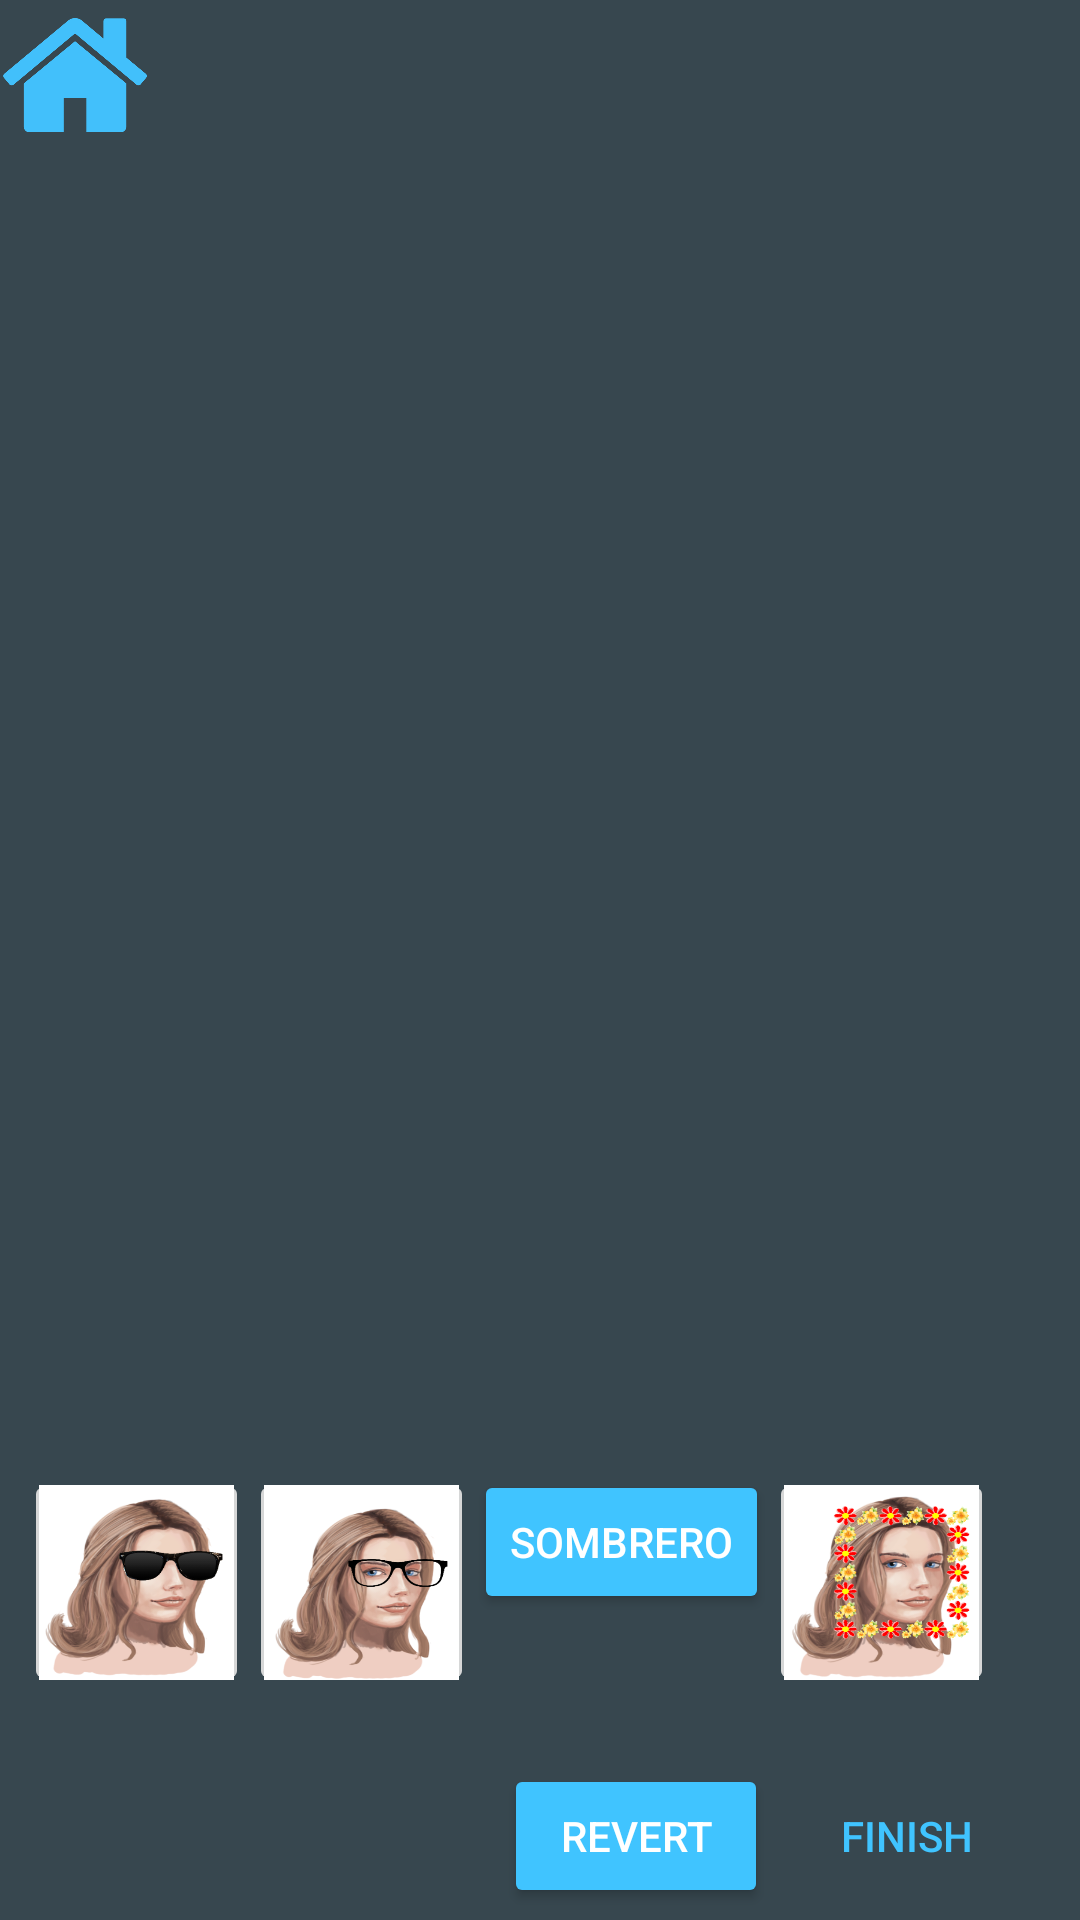

Icons on this 1080w x 1920h Android screen, each with its box as (x1, y1, x2, y2):
flowerborder: (781, 1485, 982, 1680)
glasses: (261, 1485, 462, 1680)
home: (3, 18, 147, 132)
sunglasses: (36, 1485, 237, 1680)
